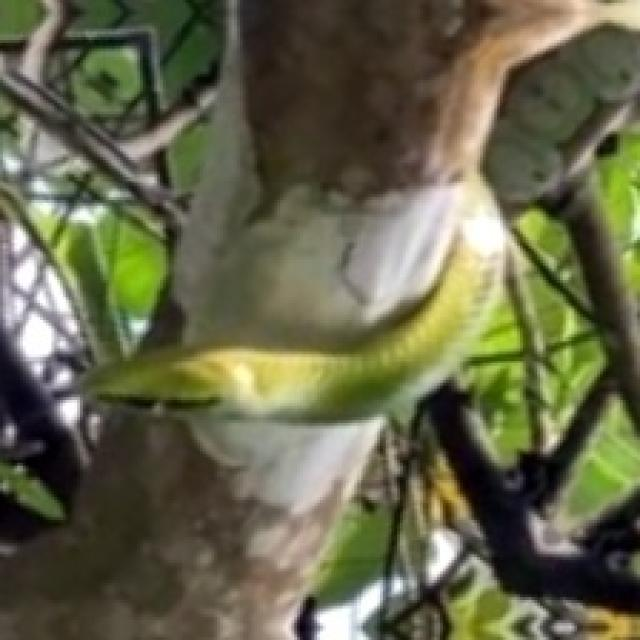red-tailed green ratsnake: (86, 185, 505, 419)
